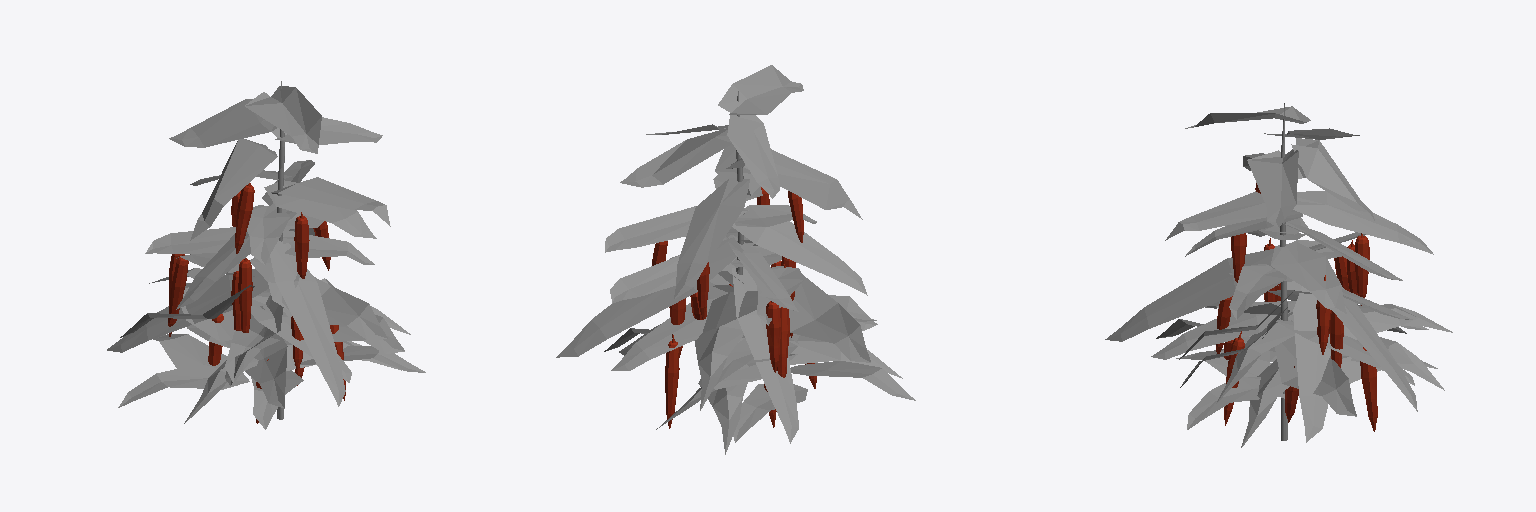
The picture shows the model from 3 angles: view 1: azimuth 30°, elevation 25°; view 2: azimuth 150°, elevation 25°; view 3: azimuth 270°, elevation 25°; orthographic projection.
Parts seen in each view (by area): view 1: Default_Layer; view 2: Default_Layer; view 3: Default_Layer.
Boxes of the visible parts, box(x1,y1,x2,y2) form: Default_Layer: box(107, 81, 425, 429); Default_Layer: box(556, 65, 915, 454); Default_Layer: box(1105, 103, 1452, 447).
Size of the model in its own units: 2597 by 2947 by 2749.
2 materials, 1 textured.